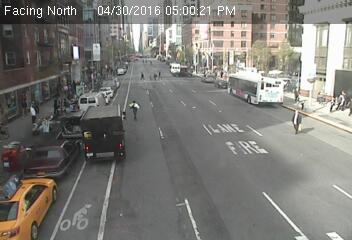neg: (284, 154, 308, 186), (170, 104, 193, 134), (198, 58, 219, 85), (11, 155, 31, 181), (56, 54, 76, 80), (29, 49, 48, 76), (224, 76, 241, 98), (223, 166, 240, 188), (318, 61, 334, 83), (105, 47, 121, 68), (196, 80, 211, 100), (325, 165, 338, 183), (282, 24, 295, 41), (224, 26, 236, 41), (207, 126, 217, 139), (162, 185, 170, 195), (143, 146, 150, 155), (185, 145, 192, 154), (183, 56, 189, 64), (110, 154, 116, 161), (67, 182, 72, 189), (137, 35, 141, 41)
pos: (287, 107, 308, 137), (24, 102, 42, 125), (126, 99, 142, 120), (289, 85, 303, 104), (28, 98, 41, 116), (136, 68, 147, 82), (151, 71, 159, 82), (157, 71, 164, 80), (143, 57, 149, 65), (148, 58, 152, 64), (141, 58, 145, 63)
